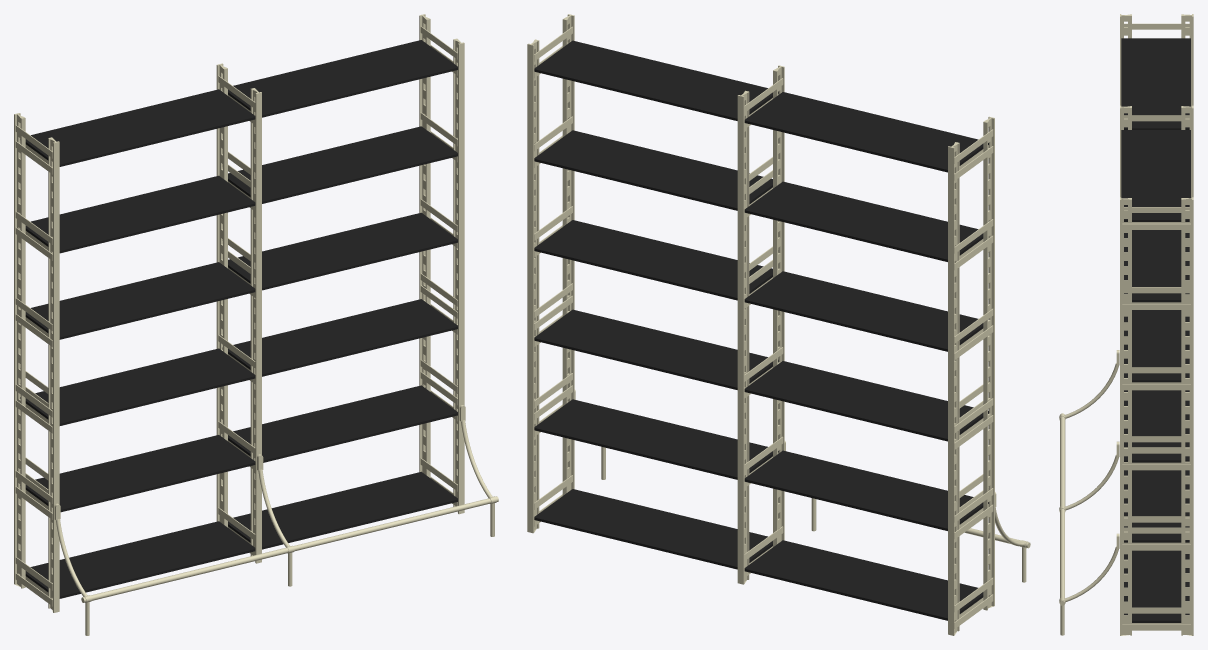
Rendered from bookshelf.obj.
The picture shows the model from 3 angles, left to right: view 1: azimuth 30°, elevation 25°; view 2: azimuth 150°, elevation 25°; view 3: azimuth 270°, elevation 25°; orthographic projection. The views are drawn at different scales.
Parts seen in each view (by area): view 1: grp2, grp4, grp6, grp1, grp3, grp13, grp8, grp12, grp10, grp14, grp11, grp15 (+1 smaller); view 2: grp2, grp4, grp6, grp1, grp3, grp13, grp12, grp8, grp14, grp10, grp11, grp5 (+1 smaller); view 3: grp2, grp13, grp4, grp1, grp6, grp14, grp12, grp11, grp15, grp3, grp5.
Boxes of the visible parts, x1,y1,x2,y2 form: grp2: [20, 40, 457, 598]; grp4: [25, 126, 457, 462]; grp6: [20, 212, 457, 512]; grp1: [15, 41, 498, 606]; grp3: [14, 113, 59, 612]; grp13: [222, 14, 464, 514]; grp8: [25, 262, 255, 339]; grp12: [222, 299, 457, 376]; grp10: [20, 348, 255, 425]; grp14: [228, 471, 457, 549]; grp11: [15, 26, 457, 590]; grp15: [54, 405, 496, 635]; grp2: [534, 40, 988, 620]; grp4: [534, 130, 983, 479]; grp6: [534, 220, 988, 530]; grp1: [534, 42, 1030, 628]; grp3: [948, 116, 994, 635]; grp13: [527, 14, 778, 533]; grp12: [534, 309, 778, 389]; grp8: [744, 271, 983, 351]; grp14: [534, 489, 772, 569]; grp10: [744, 361, 988, 441]; grp11: [534, 26, 993, 612]; grp5: [534, 129, 993, 522]; grp2: [1121, 38, 1190, 221]; grp13: [1120, 197, 1193, 635]; grp4: [1124, 230, 1189, 542]; grp1: [1060, 105, 1193, 630]; grp6: [1124, 310, 1189, 382]; grp14: [1124, 550, 1189, 622]; grp12: [1124, 390, 1189, 462]; grp11: [1124, 115, 1189, 613]; grp15: [1059, 350, 1119, 635]; grp3: [1120, 14, 1193, 106]; grp5: [1124, 23, 1189, 442].
Size of the model in its own units: 217 by 235 by 65.5.
